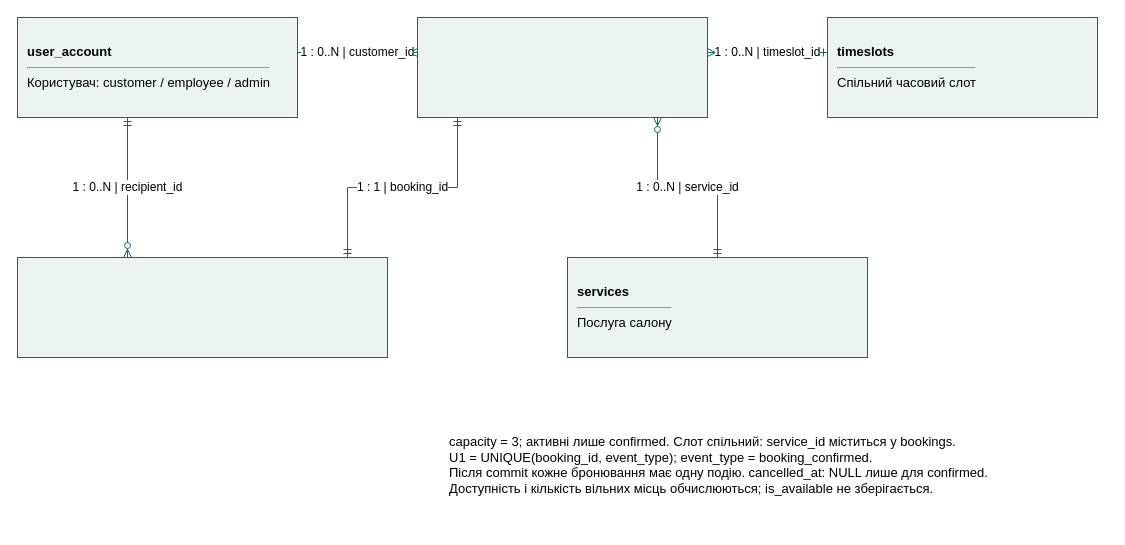
This 1125x545 diagram has some shape labels left out. The centre of each missing label's shape, as x and y in pixels:
"bookings Бронювання" goes at [562,67].
"notifications_outbox Подія підтвердження у черзі" goes at [202,307].
